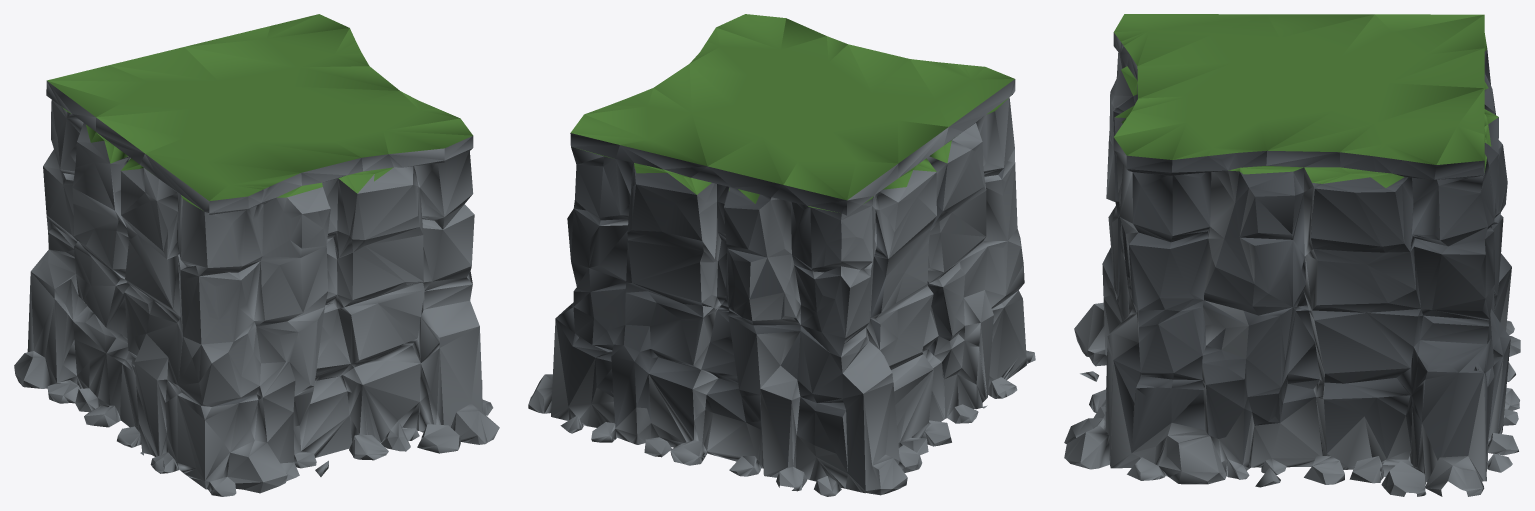
Rendered from mdvl_nature_cliff_corner_01.glb.
The picture shows the model from 3 angles, left to right: view 1: azimuth 30°, elevation 25°; view 2: azimuth 150°, elevation 25°; view 3: azimuth 270°, elevation 25°; orthographic projection. The views are drawn at different scales.
Parts seen in each view (by area): view 1: mdvl_nature_cliff_corner_01; view 2: mdvl_nature_cliff_corner_01; view 3: mdvl_nature_cliff_corner_01.
Boxes of the visible parts, x1,y1,x2,y2 form: mdvl_nature_cliff_corner_01: (14, 14, 499, 496); mdvl_nature_cliff_corner_01: (528, 14, 1035, 496); mdvl_nature_cliff_corner_01: (1064, 14, 1520, 496).
Size of the model in its own units: 4 by 3 by 3.99.
Materials: 1 (1 with a texture image).
